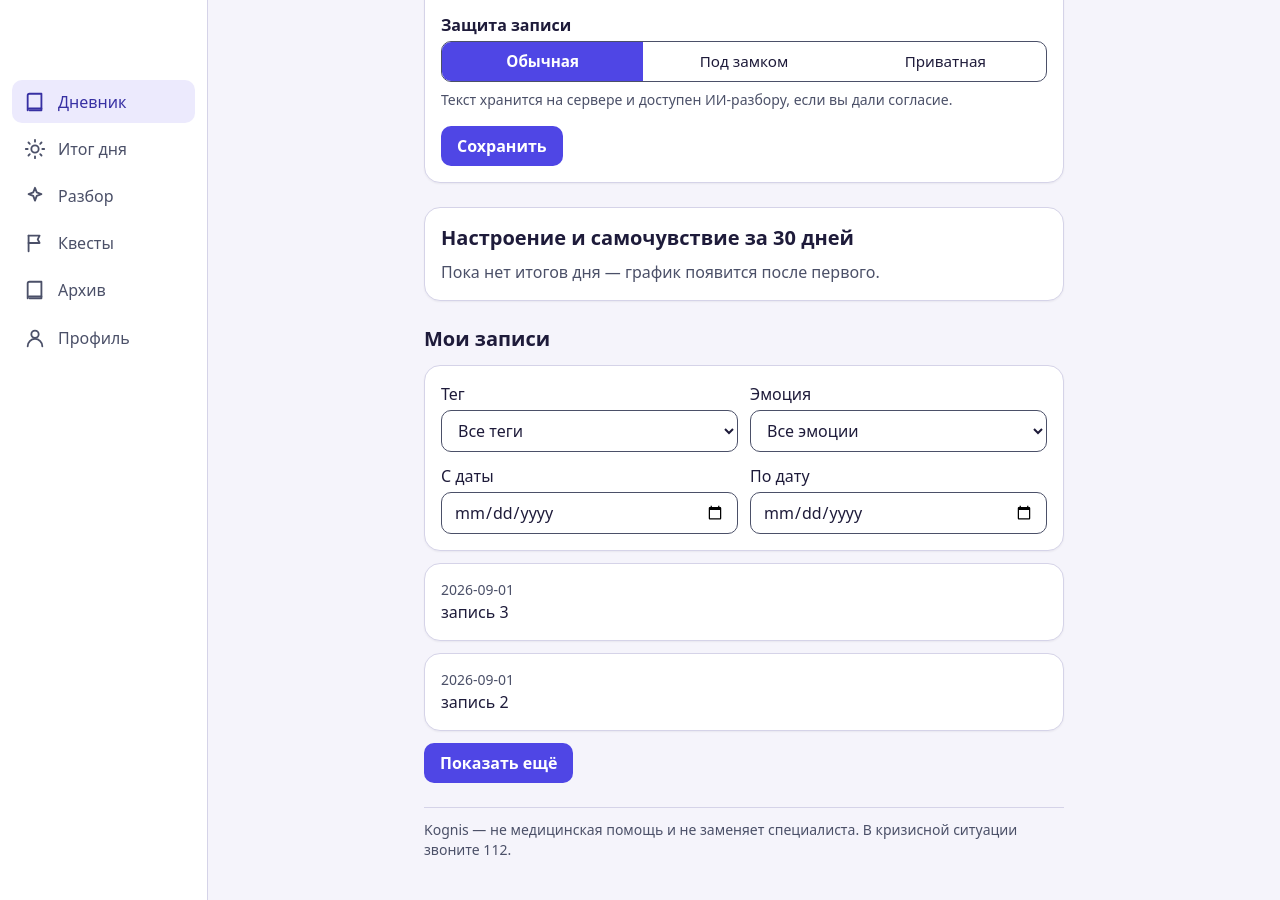
Advanced: первая страница, «Показать ещё» подгружает следующую по курсору
(page scrolled)
Expected: the text "запись 3" is shown, [441, 601, 509, 623]
Expected: the text "запись 1" is not shown
Click the button with test id "more-entries" at (499, 763), box [424, 743, 574, 783]
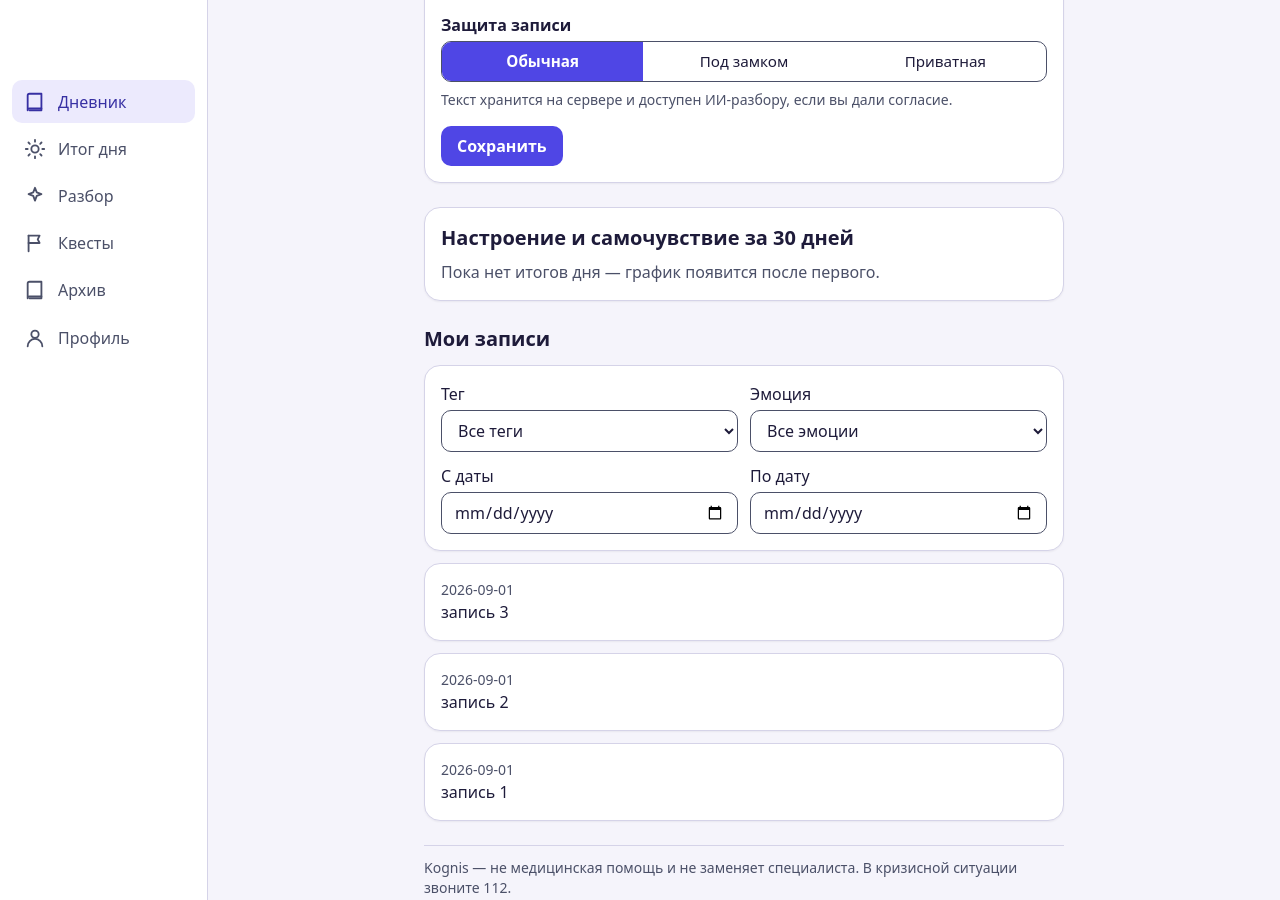
Expected: the text "запись 3" is shown, [441, 601, 509, 623]
Result: the text "запись 1" is shown at [441, 781, 509, 803]
Result: the button with test id "more-entries" is gone
